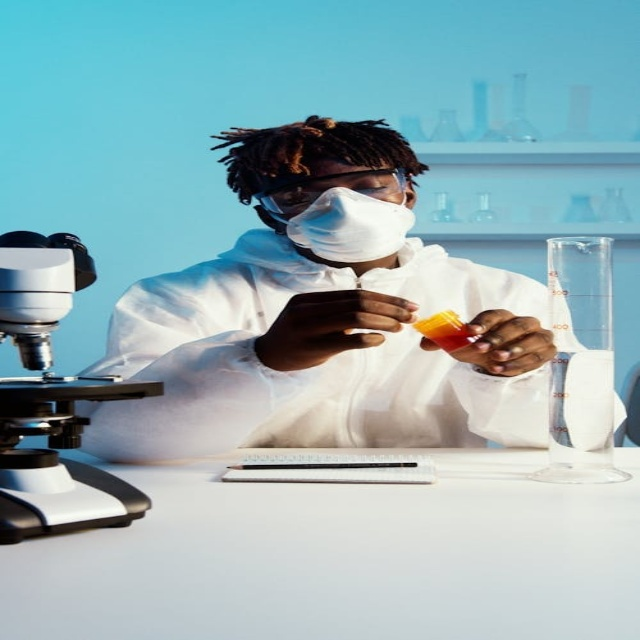Gafas: (250, 167, 406, 213)
Mascara: (274, 187, 416, 263)
Sin_guantes: (258, 287, 417, 371), (416, 307, 554, 377)
